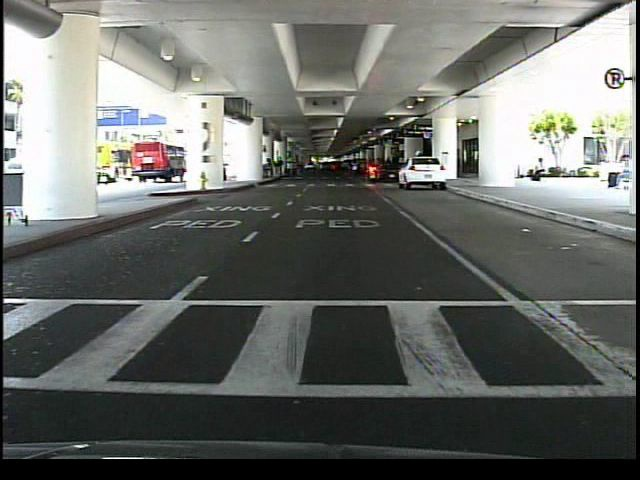person: (524, 152, 551, 189)
